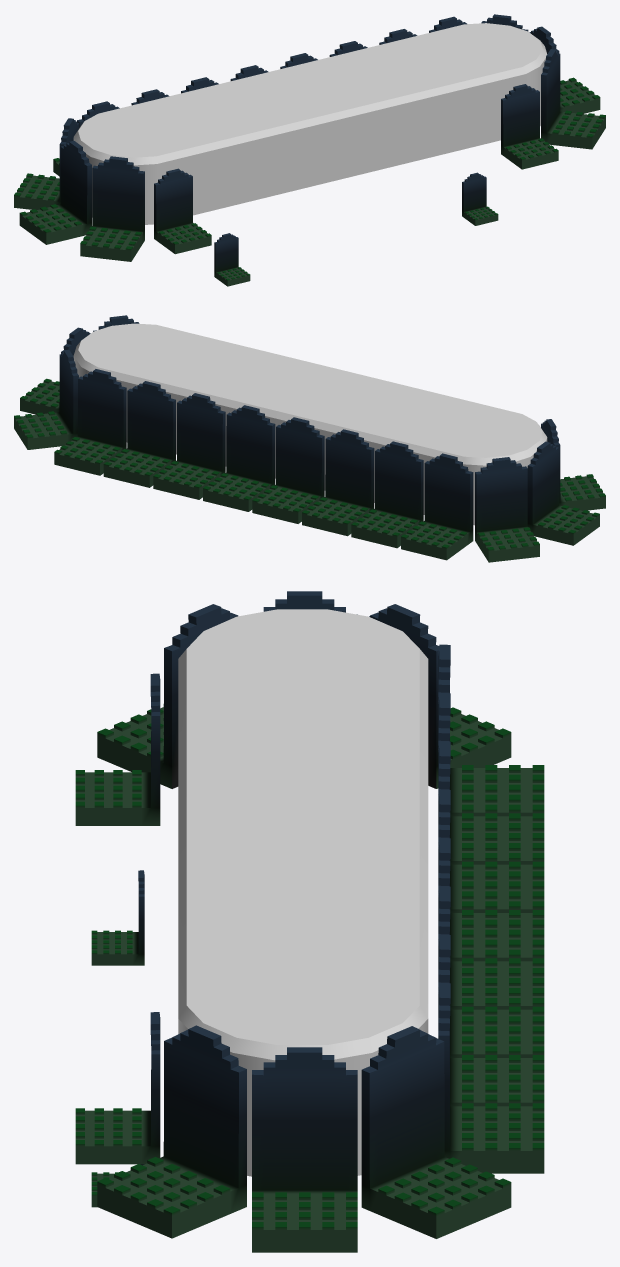
The model's file is UnitSelector.fbx.
3 views of the same model, one above another, from view 1: azimuth 30°, elevation 25°; view 2: azimuth 150°, elevation 25°; view 3: azimuth 270°, elevation 25° (orthographic). The views are drawn at different scales.
Parts seen in each view (by area): view 1: Base, Slot15, Slot14, Slot01, Slot16, Slot02, Slot13, Slot03, Slot17, Slot00, Slot12; view 2: Base, Slot13, Slot12, Slot08, Slot10, Slot06, Slot11, Slot07, Slot09, Slot05, Slot14, Slot04 (+2 smaller); view 3: Base, Slot03, Slot04, Slot02, Slot05, Slot15, Slot13, Slot16, Slot01, Slot11, Slot08, Slot06 (+6 smaller).
Part boxes in pixels (<box>): Base: <box>73,23,547,224</box>; Slot15: <box>80,156,144,261</box>; Slot14: <box>19,140,91,244</box>; Slot01: <box>501,84,558,169</box>; Slot16: <box>154,168,211,254</box>; Slot02: <box>541,49,605,149</box>; Slot13: <box>14,118,78,209</box>; Slot03: <box>529,26,600,113</box>; Slot17: <box>214,233,250,286</box>; Slot00: <box>462,172,498,225</box>; Slot12: <box>53,101,119,176</box>; Base: <box>73,323,547,525</box>; Slot13: <box>475,457,539,562</box>; Slot12: <box>401,453,473,560</box>; Slot08: <box>203,405,275,511</box>; Slot10: <box>302,429,374,536</box>; Slot06: <box>103,381,175,487</box>; Slot11: <box>351,441,423,548</box>; Slot07: <box>153,393,225,499</box>; Slot09: <box>252,417,324,523</box>; Slot05: <box>54,369,126,475</box>; Slot14: <box>527,441,599,545</box>; Slot04: <box>14,349,78,449</box>; Base: <box>178,609,428,1176</box>; Slot03: <box>252,1047,357,1252</box>; Slot04: <box>361,1026,511,1238</box>; Slot02: <box>97,1025,246,1238</box>; Slot05: <box>438,983,544,1173</box>; Slot15: <box>97,604,238,788</box>; Slot13: <box>369,604,511,788</box>; Slot16: <box>75,673,160,825</box>; Slot01: <box>75,1012,160,1164</box>; Slot11: <box>438,693,544,864</box>; Slot08: <box>438,838,544,1009</box>; Slot06: <box>438,934,544,1106</box>.
Bounding box in the file's own units: 1509 × 331 × 553.
